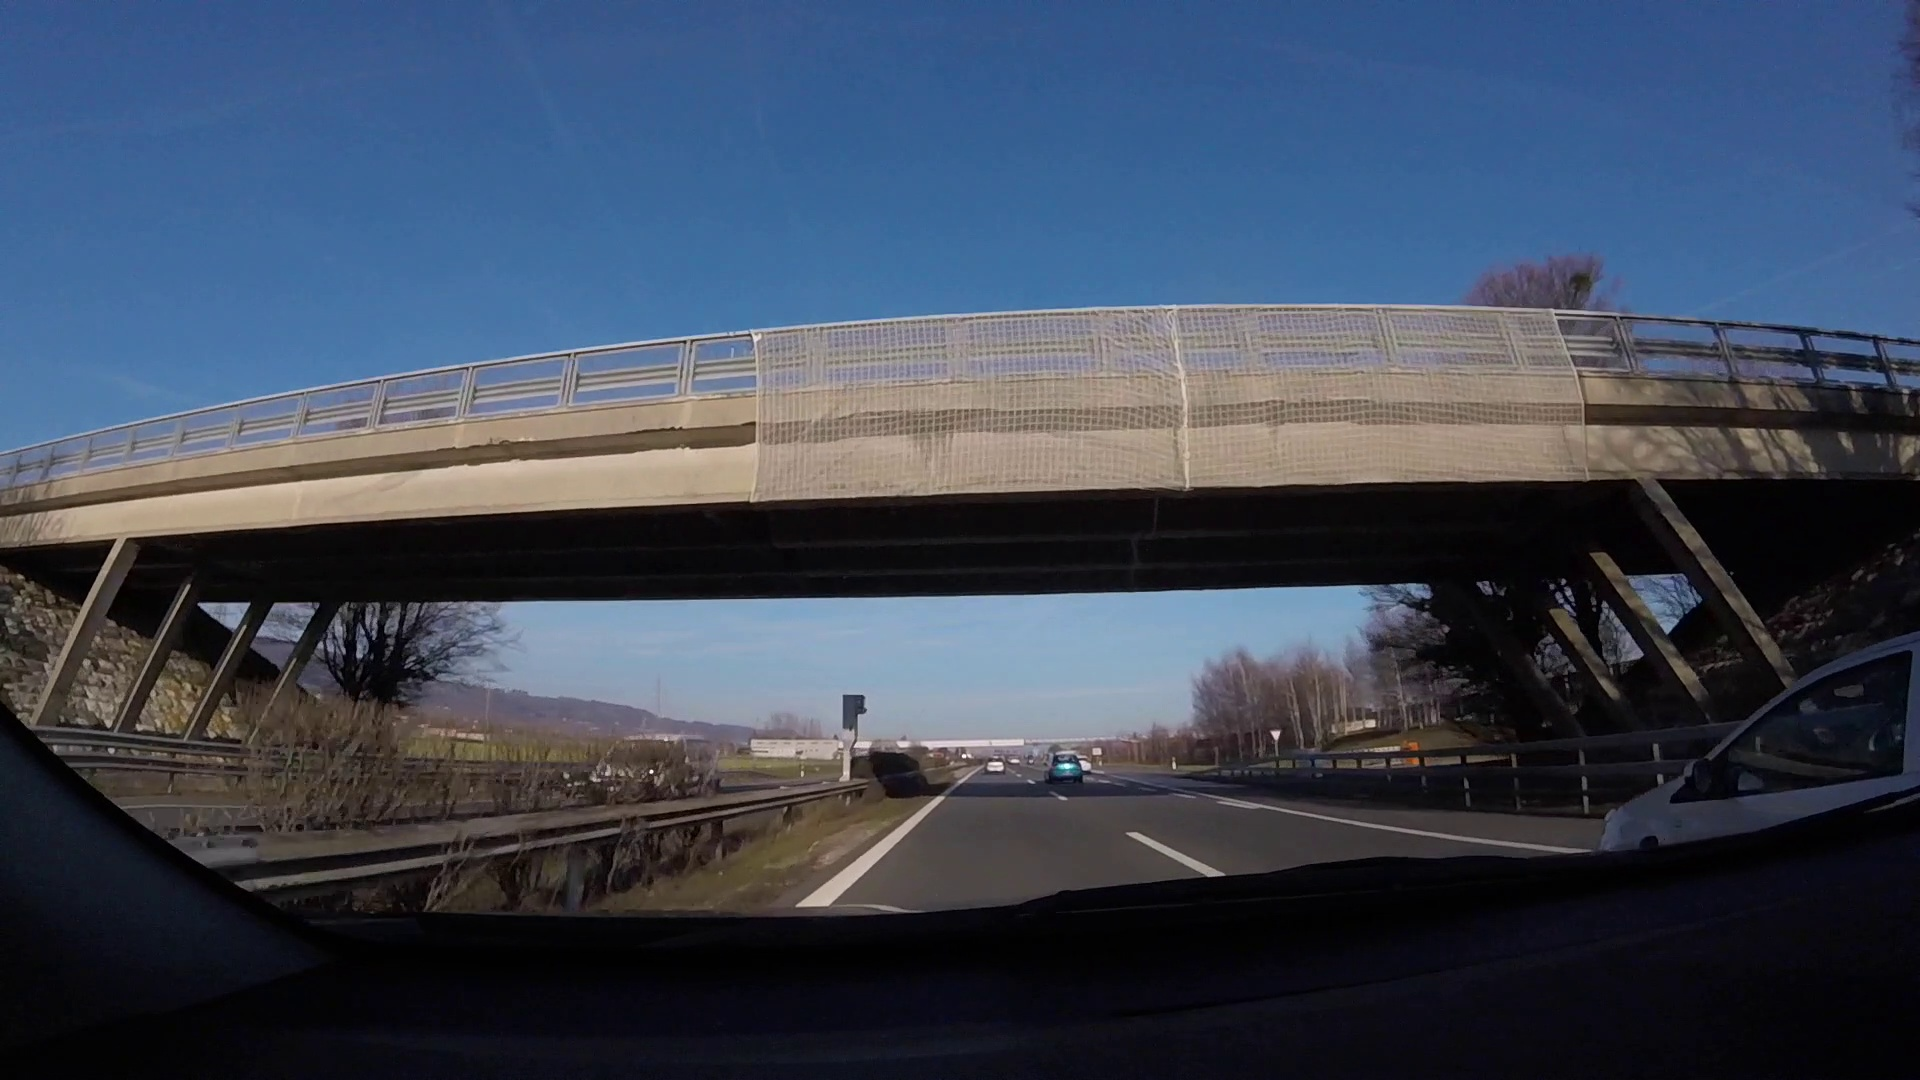radar: (840, 694, 870, 781)
